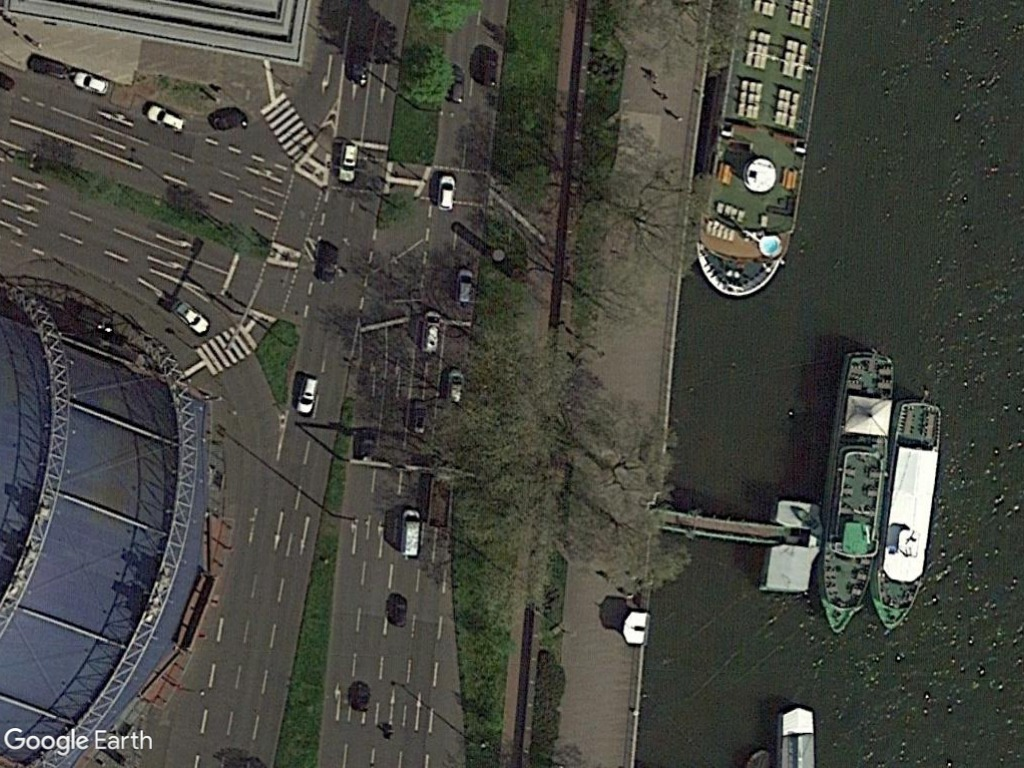boat: (816, 349, 901, 635), (872, 395, 940, 639)
car: (171, 287, 215, 345), (134, 98, 194, 139), (61, 64, 115, 103), (291, 372, 321, 422), (434, 166, 458, 218)
van: (398, 503, 422, 562)
